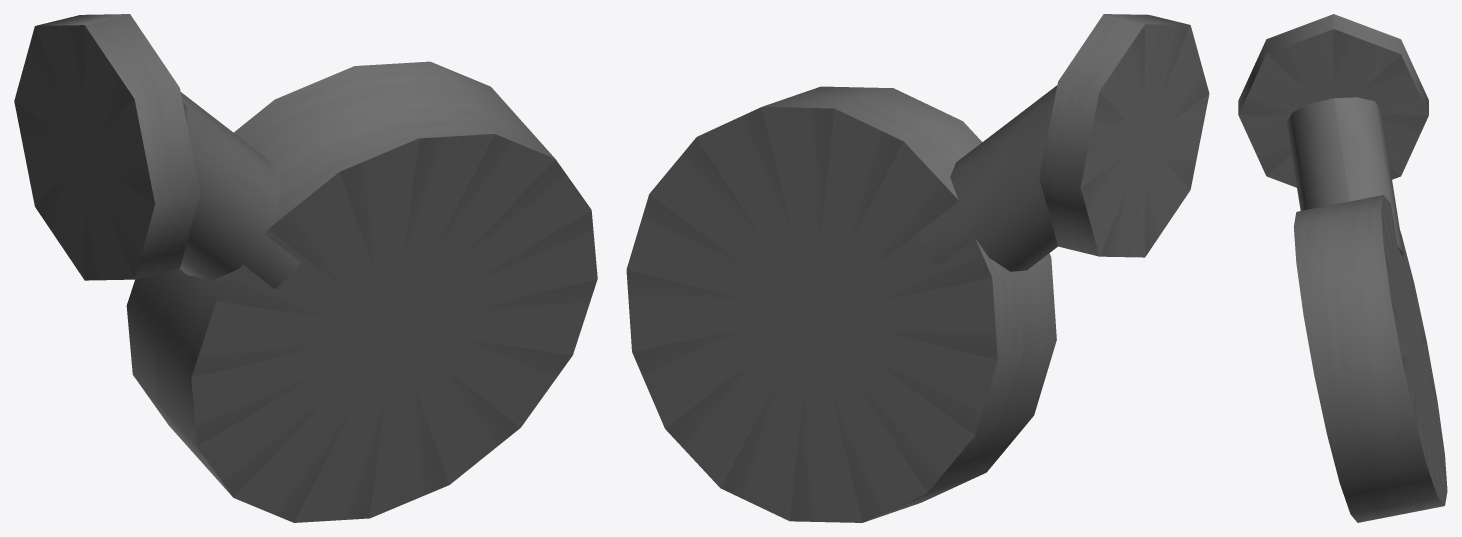
Rendered from mastarmcurve_8x2_c6_west.obj.
3 views of the same model, side by side, from view 1: azimuth 30°, elevation 25°; view 2: azimuth 150°, elevation 25°; view 3: azimuth 270°, elevation 25° (orthographic). The views are drawn at different scales.
Visible parts, largest first — view 1: mastarm_8x2_c6_west; view 2: mastarm_8x2_c6_west; view 3: mastarm_8x2_c6_west.
Boxes of the visible parts, box(x1,y1,x2,y2) form: mastarm_8x2_c6_west: box(14, 14, 597, 522); mastarm_8x2_c6_west: box(626, 14, 1209, 522); mastarm_8x2_c6_west: box(1238, 14, 1447, 522).
Size of the model in its own units: 0.8324 by 0.9113 by 0.4388.
